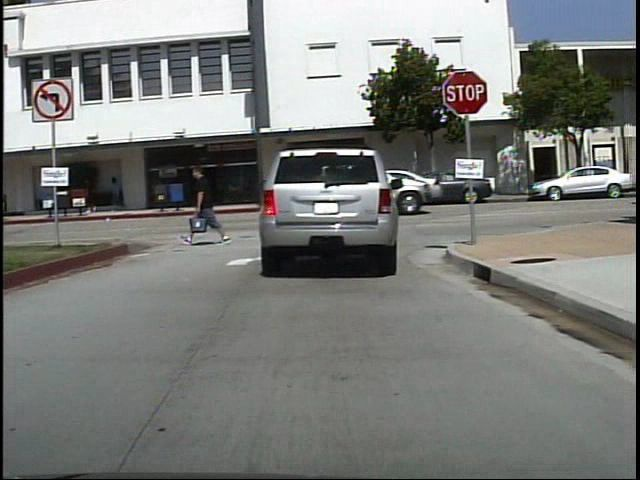person: (185, 158, 227, 247), (106, 173, 128, 213), (89, 172, 90, 210)
